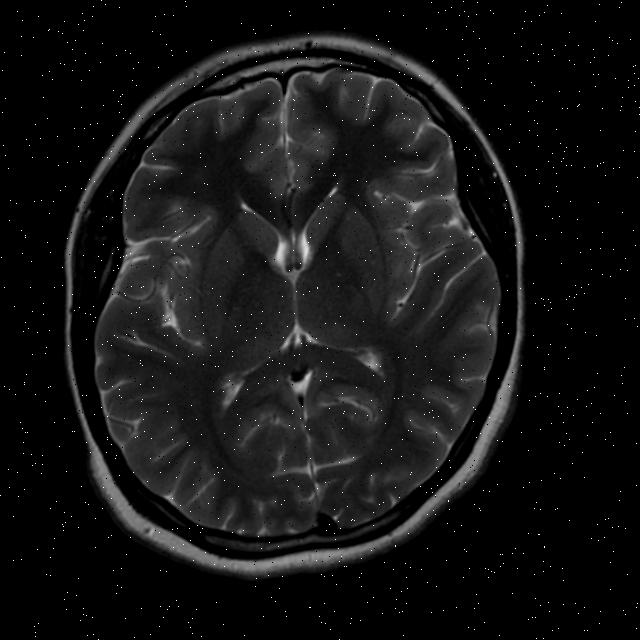NoTumor: (13, 0, 578, 614)
